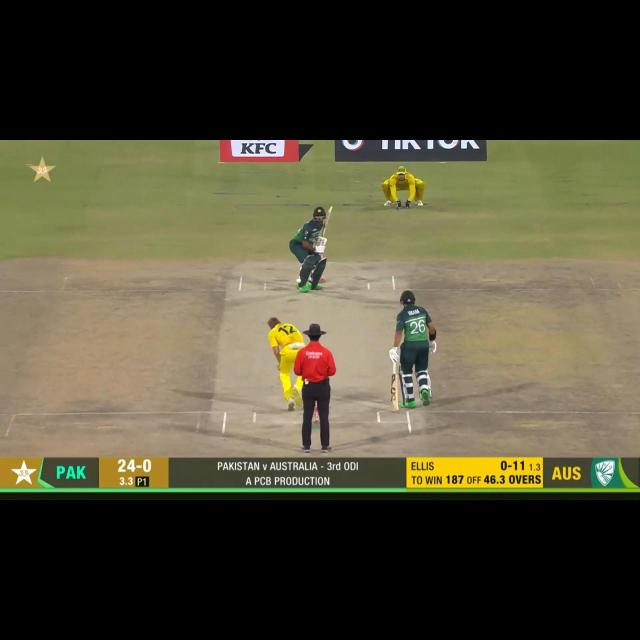bat: (320, 206, 332, 238), (389, 374, 399, 411)
toe: (388, 405, 400, 413), (324, 206, 335, 212)
